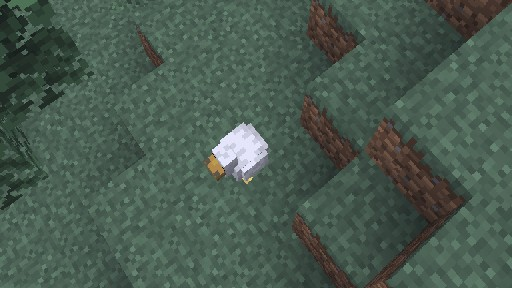chicken: (203, 121, 269, 183)
